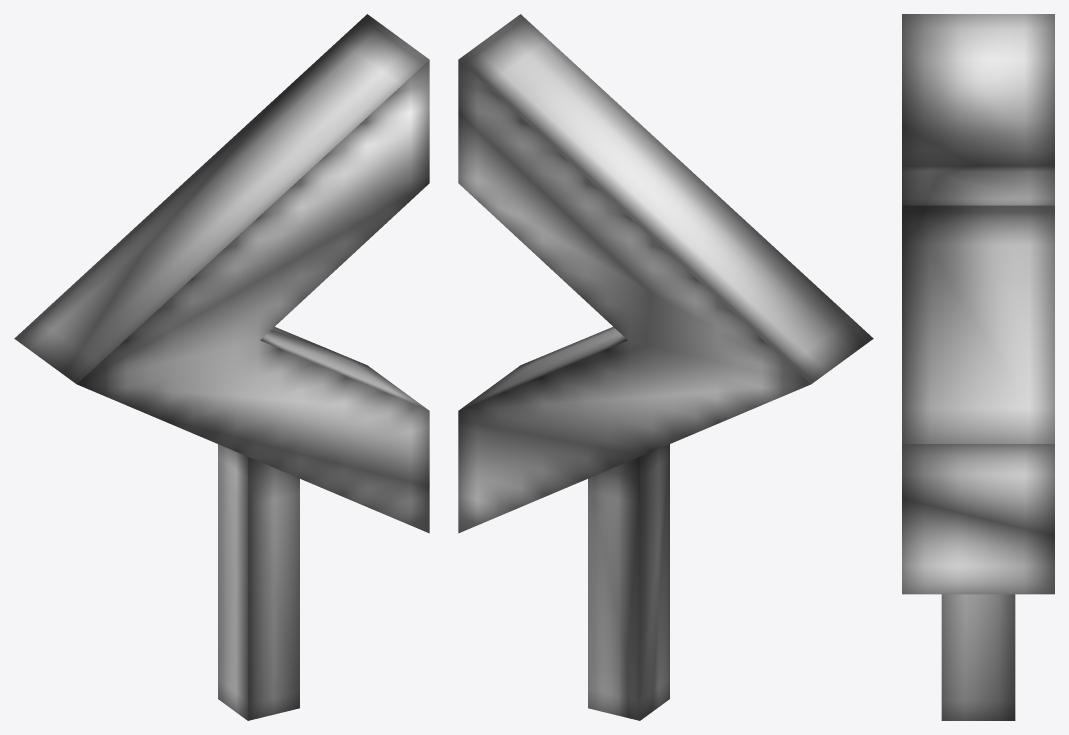
File: Arrow-01.fbx
3 views of the same model, side by side, from view 1: azimuth 30°, elevation 25°; view 2: azimuth 150°, elevation 25°; view 3: azimuth 270°, elevation 25° (orthographic). The views are drawn at different scales.
Parts seen in each view (by area): view 1: Arrow-01; view 2: Arrow-01; view 3: Arrow-01.
Part boxes in pixels (<box>): Arrow-01: <box>14,14,429,720</box>; Arrow-01: <box>458,14,873,720</box>; Arrow-01: <box>902,14,1054,720</box>.
Size of the model in its own units: 0.1253 by 0.2145 by 0.0384.
